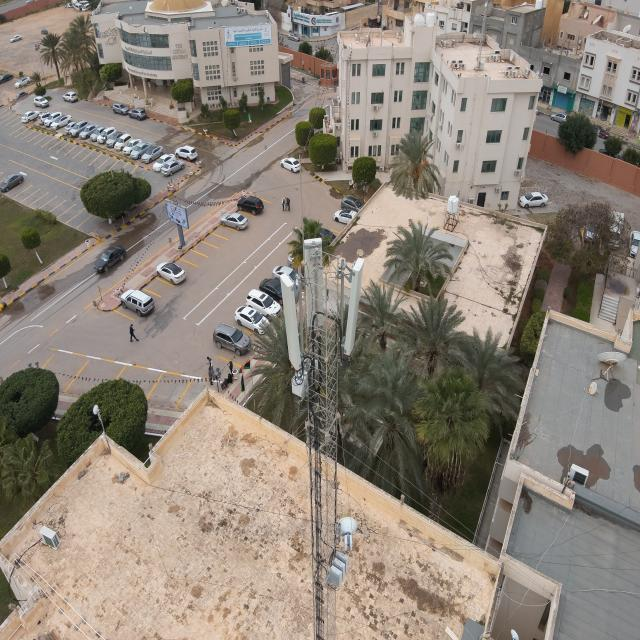antenna: (276, 267, 306, 369), (298, 234, 326, 342), (344, 250, 366, 361)
lighnig-rad: (295, 158, 308, 280)
microware-dish: (333, 515, 364, 555)
power-box: (326, 551, 351, 593)
radio-unit: (290, 370, 316, 403)
